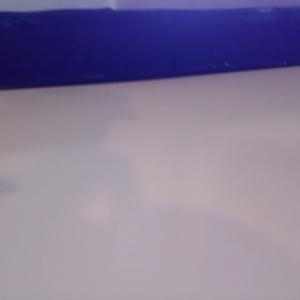zone: (1, 6, 300, 91)
